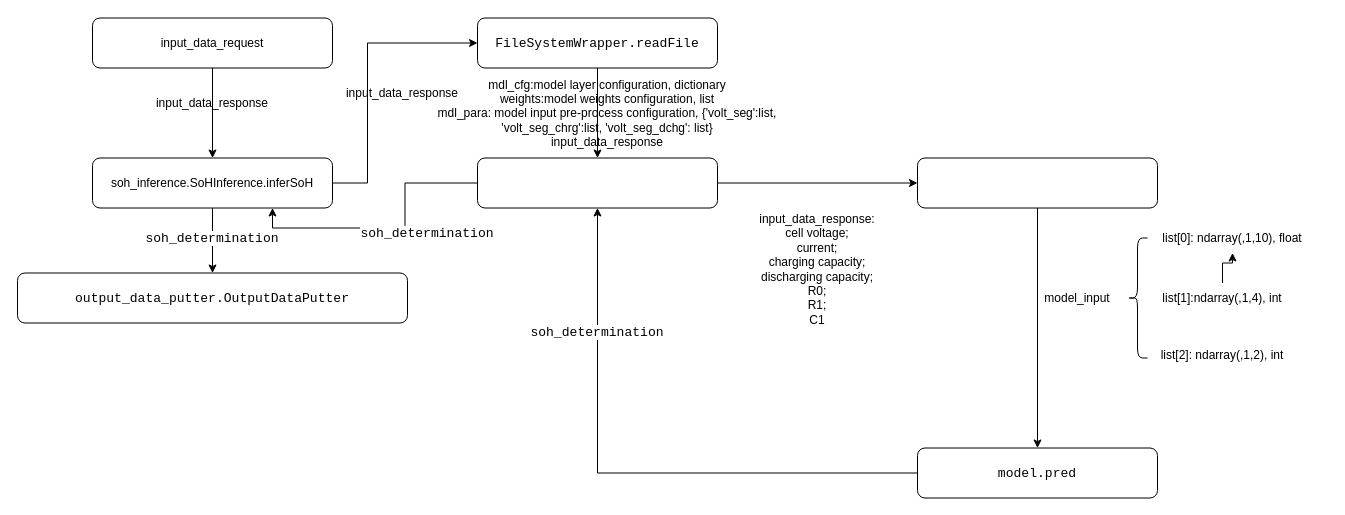
The diagram is 1345 pixels wide and 515 high, and some of its shapes have lost their labels. Here are the shapes that lost their labels. From the top down, the centre of each, then its label:
At point (597, 182): "predSOH".
At point (1037, 182): "data pre-process".
